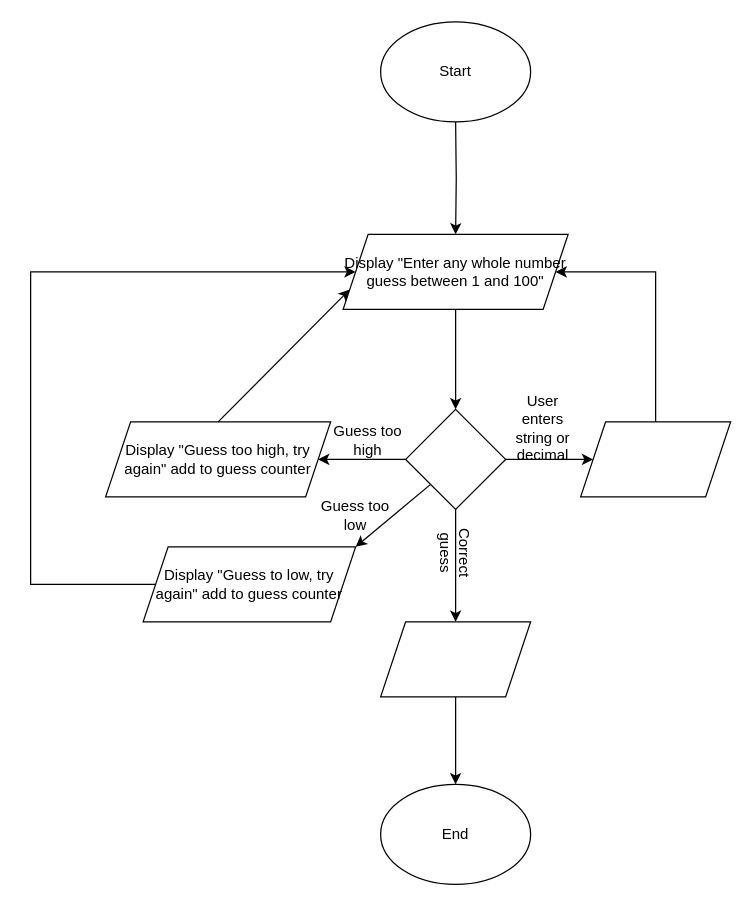
Some shapes in this 753 by 906 pixel diagram are drawn without their labels. Here are the shapes that lost their labels. From the top down, the centre of each, then its label:
(x=455, y=458): User inputs guess
(x=655, y=459): Display "Only enter whole numbers between 1-100"
(x=455, y=659): Display "Correct guesses, you guessed __ times"
